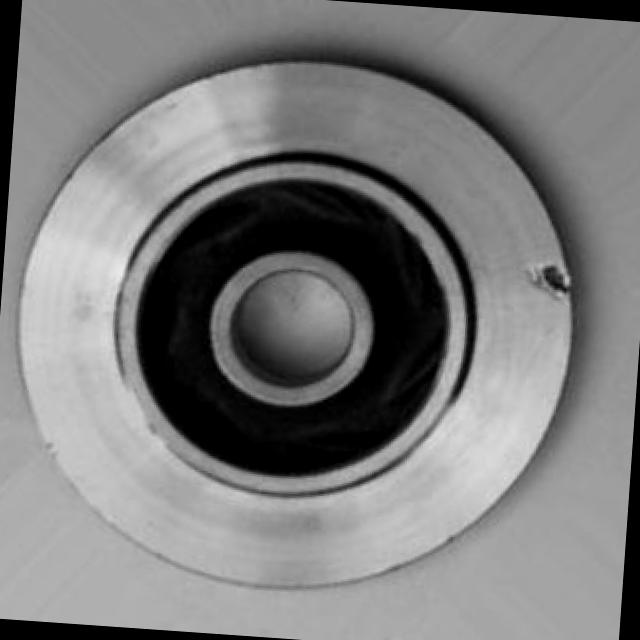Defect: (524, 255, 584, 312)
